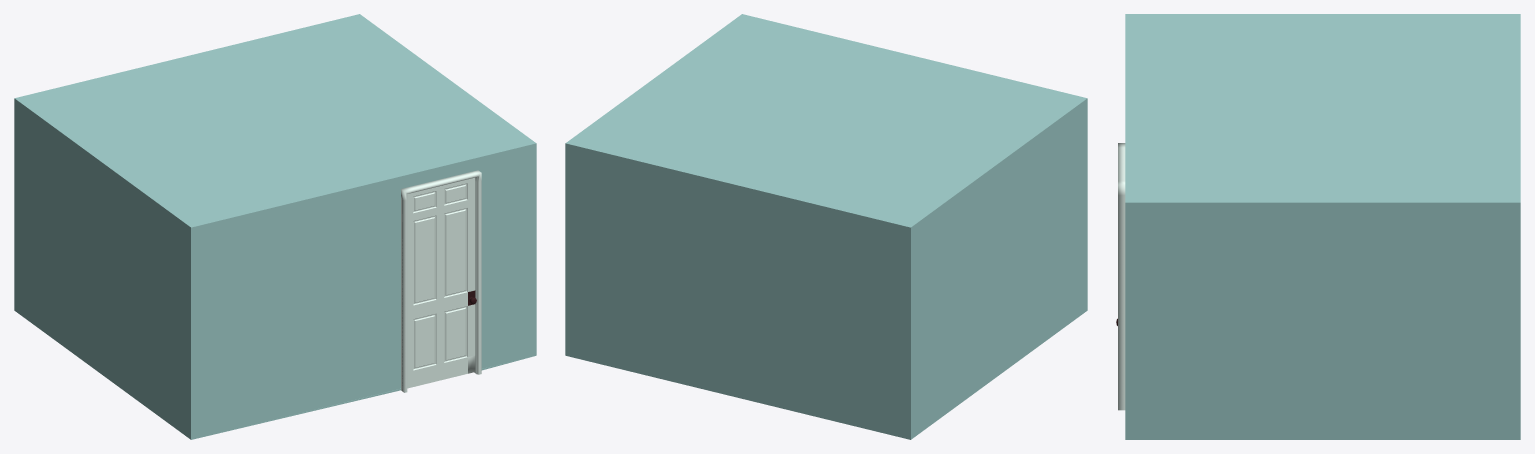
Rendered from BedRoom_Textured.fbx.
3 views of the same model, side by side, from view 1: azimuth 30°, elevation 25°; view 2: azimuth 150°, elevation 25°; view 3: azimuth 270°, elevation 25° (orthographic). The views are drawn at different scales.
Parts seen in each view (by area): view 1: Kids Room; view 2: Kids Room; view 3: Kids Room.
Boxes of the visible parts, x1,y1,x2,y2 form: Kids Room: [14, 14, 536, 439]; Kids Room: [565, 14, 1087, 439]; Kids Room: [1116, 14, 1520, 439].
Size of the model in its own units: 20216 by 11975 by 18312.
